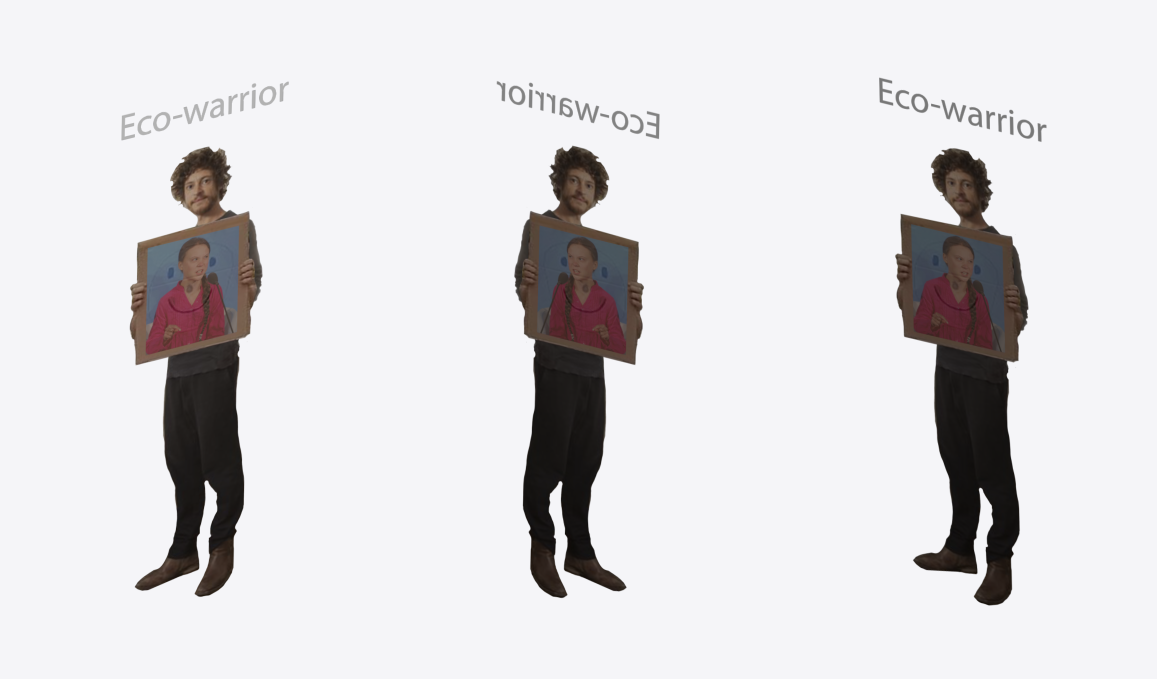
Rendered from Eco-warrior.glb.
The picture shows the model from 3 angles, left to right: view 1: azimuth 30°, elevation 25°; view 2: azimuth 150°, elevation 25°; view 3: azimuth 330°, elevation 25°; orthographic projection. The views are drawn at different scales.
Parts seen in each view (by area): view 1: Eco-warrior; view 2: Eco-warrior; view 3: Eco-warrior.
Boxes of the visible parts, <box> form: Eco-warrior: <box>121,81,288,596</box>; Eco-warrior: <box>496,81,659,597</box>; Eco-warrior: <box>879,77,1046,605</box>.
Bounding box in the file's own units: 0.6942 × 1.1 × 0.0431.
Materials: 1 (1 with a texture image).
